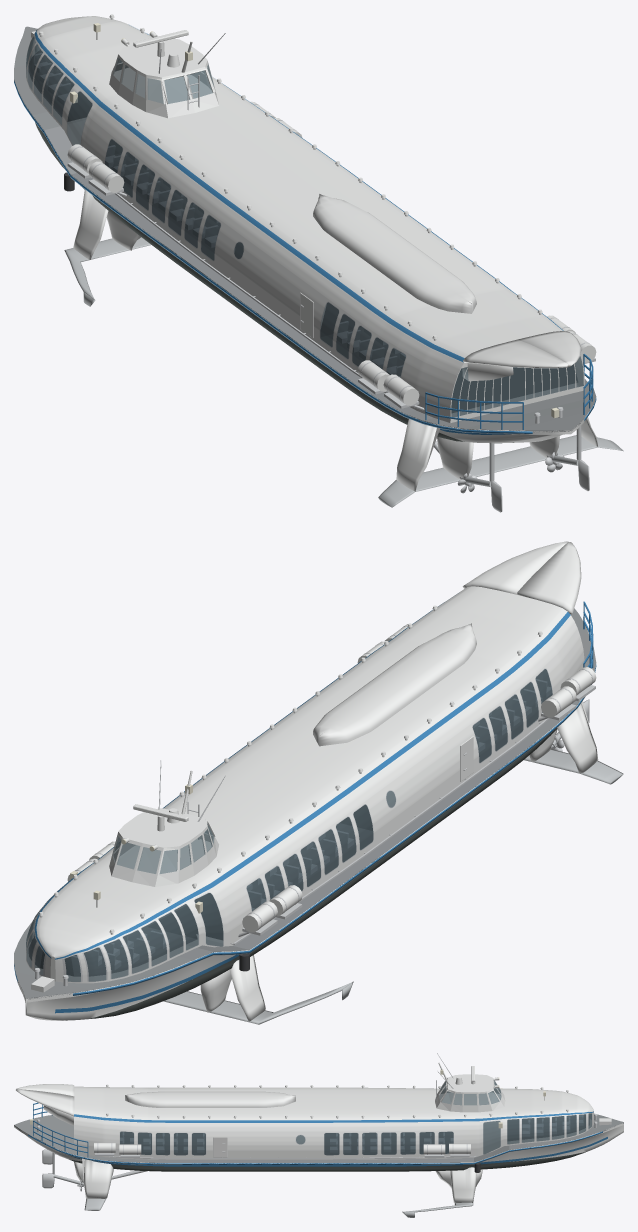
The model's file is Meteor342U.fbx.
The picture shows the model from 3 angles, top to bottom: view 1: azimuth 30°, elevation 25°; view 2: azimuth 150°, elevation 25°; view 3: azimuth 270°, elevation 25°; orthographic projection. The views are drawn at different scales.
Parts seen in each view (by area): view 1: Meteor342U_LOD0; view 2: Meteor342U_LOD0; view 3: Meteor342U_LOD0.
Boxes of the visible parts, x1,y1,x2,y2 form: Meteor342U_LOD0: [14, 14, 623, 512]; Meteor342U_LOD0: [14, 541, 623, 1024]; Meteor342U_LOD0: [14, 1053, 623, 1217].
Size of what is drawn, in the model's own units: 9.54 by 7.55 by 34.6.
